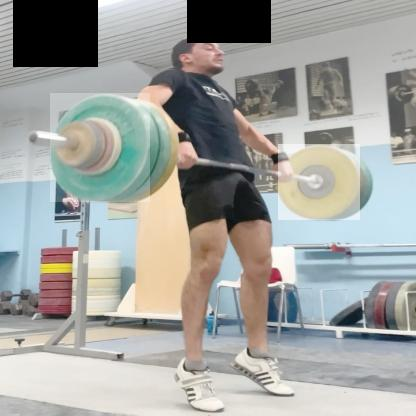barbell: (51, 94, 151, 203), (279, 146, 361, 222)
